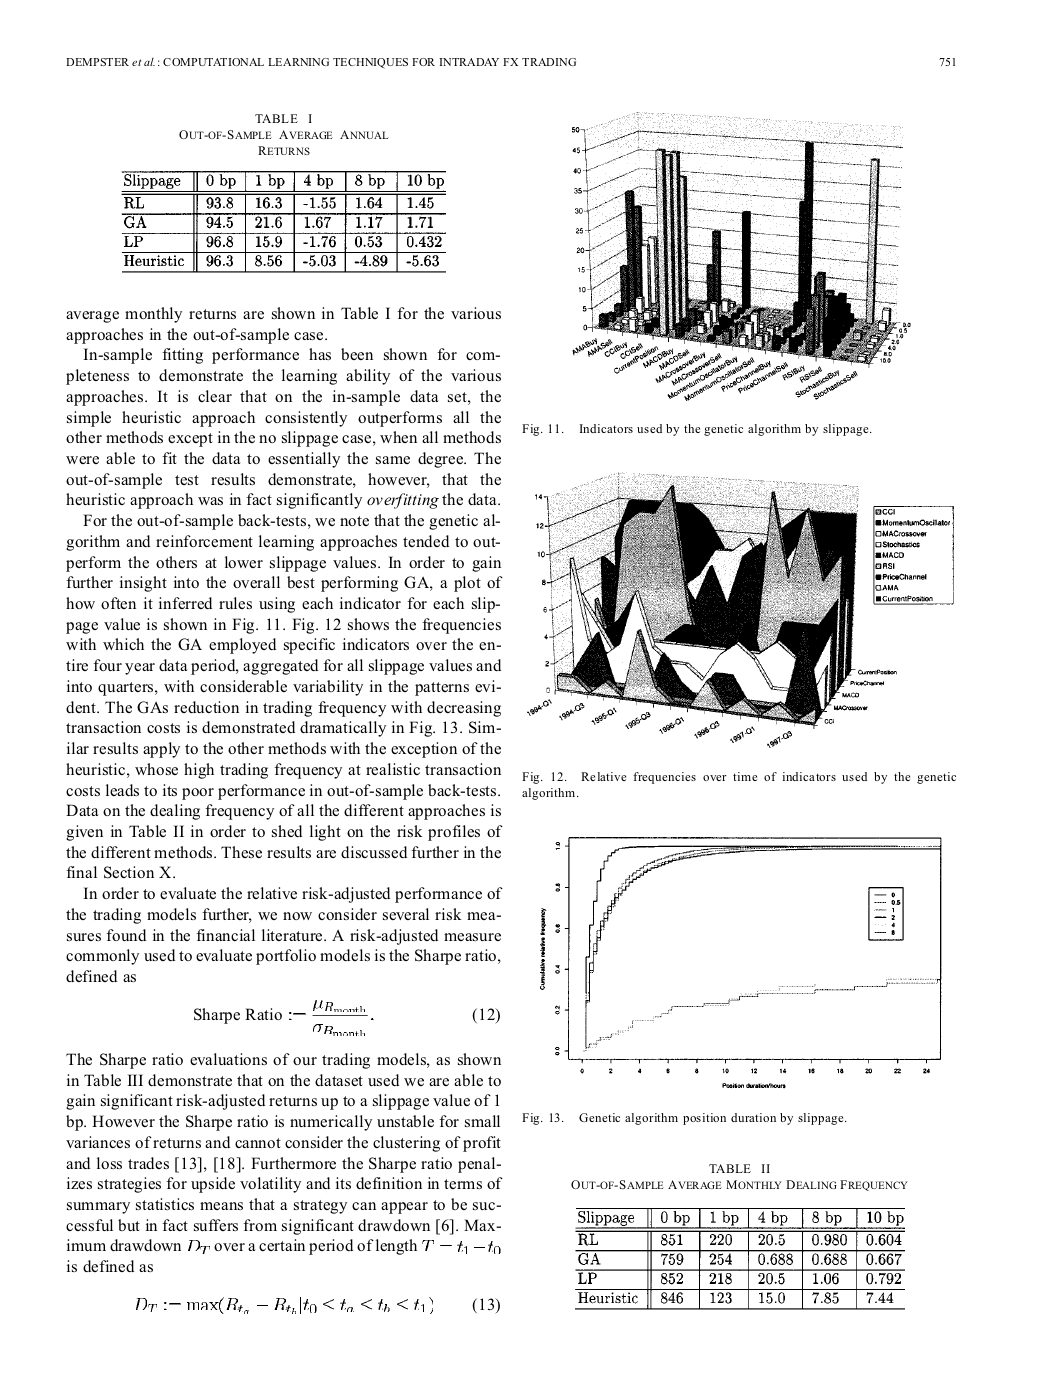Table: (575, 1207, 904, 1309), (121, 171, 445, 273)
figure: (527, 471, 953, 748), (541, 837, 941, 1088), (572, 111, 911, 401)
formula: (194, 999, 499, 1036), (136, 1296, 499, 1314)
